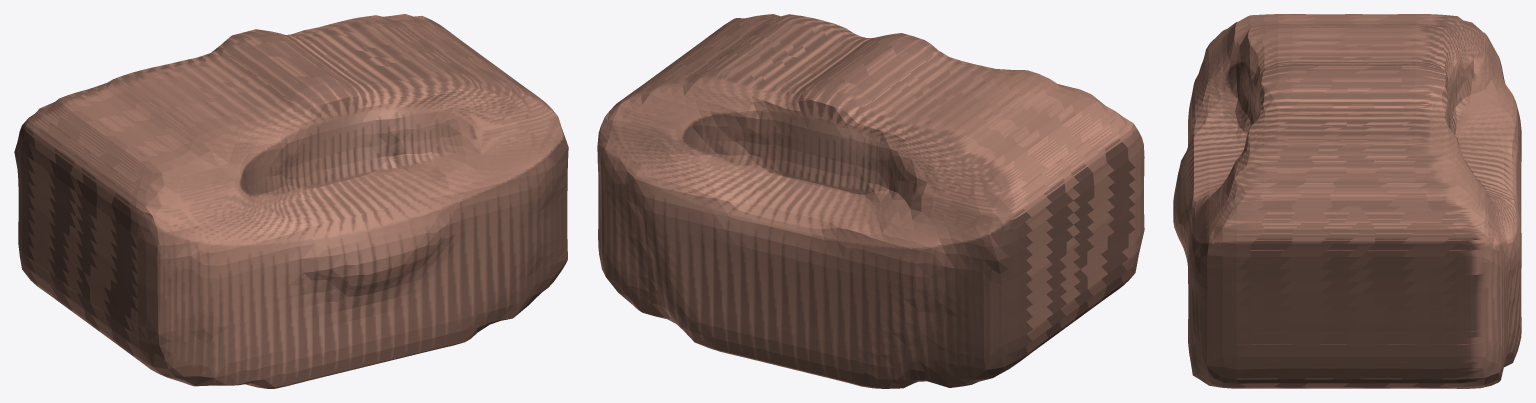
Rendered from ring.glb.
The picture shows the model from 3 angles, left to right: view 1: azimuth 30°, elevation 25°; view 2: azimuth 150°, elevation 25°; view 3: azimuth 270°, elevation 25°; orthographic projection.
Visible parts, largest first — view 1: model; view 2: model; view 3: model.
Part boxes in pixels (x1,y1,x2,y2): model: (14, 14, 568, 388); model: (597, 14, 1144, 388); model: (1173, 14, 1521, 388).
Size of the model in its own units: 1 by 0.5766 by 0.7152.
Materials: 1 (1 with a texture image).
